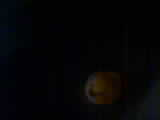duck: (78, 72, 118, 108)
